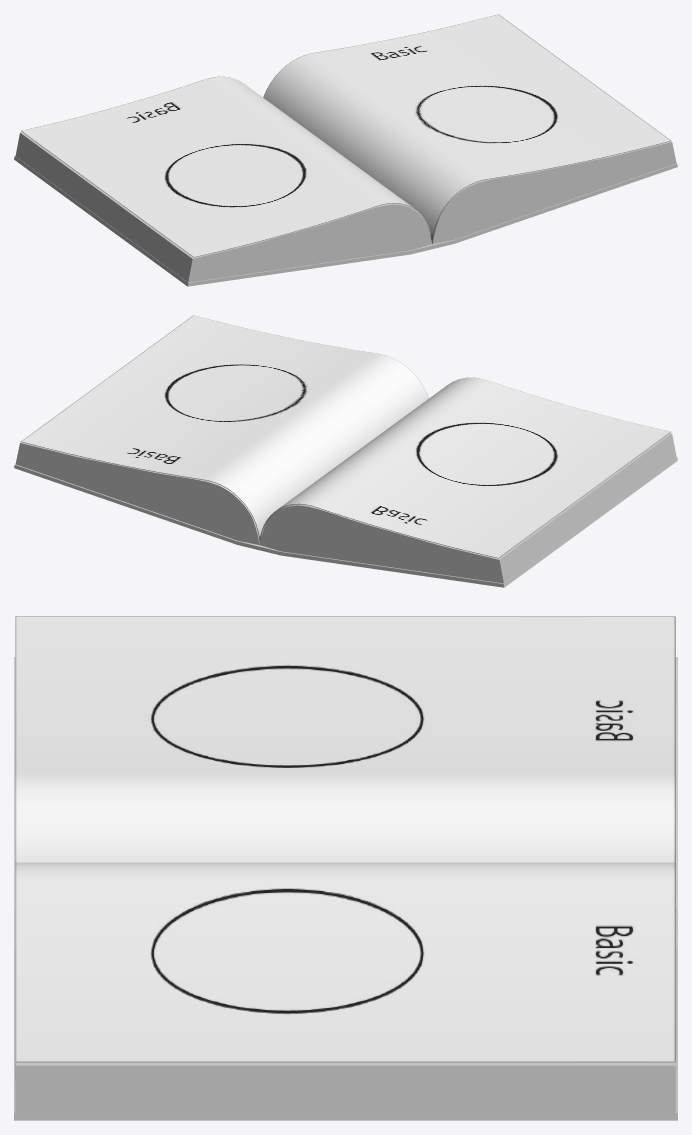
Rendered from GrimoreDebug.fbx.
3 renders of one model, top to bottom at view 1: azimuth 30°, elevation 25°; view 2: azimuth 150°, elevation 25°; view 3: azimuth 270°, elevation 25°, orthographic. The views are drawn at different scales.
Parts seen in each view (by area): view 1: HojaAnimada, HojaAnimada001, Volumen izquierdo, Volumen derecho, Tapa izquierda, Tapa derecha; view 2: HojaAnimada, HojaAnimada001, Volumen izquierdo, Volumen derecho, Tapa izquierda, Tapa derecha; view 3: HojaAnimada001, HojaAnimada, Volumen derecho, Tapa derecha, Tapa izquierda.
Boxes of the visible parts, left/top/right/bottom form: HojaAnimada: left=263, top=14, right=670, bottom=243; HojaAnimada001: left=21, top=76, right=432, bottom=257; Volumen izquierdo: left=15, top=132, right=431, bottom=282; Volumen derecho: left=432, top=141, right=676, bottom=243; Tapa izquierda: left=14, top=155, right=432, bottom=286; Tapa derecha: left=431, top=163, right=677, bottom=248; HojaAnimada: left=21, top=315, right=428, bottom=545; HojaAnimada001: left=259, top=377, right=670, bottom=558; Volumen izquierdo: left=260, top=433, right=676, bottom=583; Volumen derecho: left=15, top=442, right=259, bottom=544; Tapa izquierda: left=259, top=457, right=677, bottom=587; Tapa derecha: left=14, top=464, right=260, bottom=549; HojaAnimada001: left=15, top=616, right=675, bottom=862; HojaAnimada: left=15, top=862, right=675, bottom=1062; Volumen derecho: left=15, top=1062, right=675, bottom=1112; Tapa derecha: left=14, top=927, right=677, bottom=1120; Tapa izquierda: left=14, top=657, right=677, bottom=927.
Bounding box in the file's own units: 18.33 × 2.02 × 11.24.
1 material, 1 textured.
